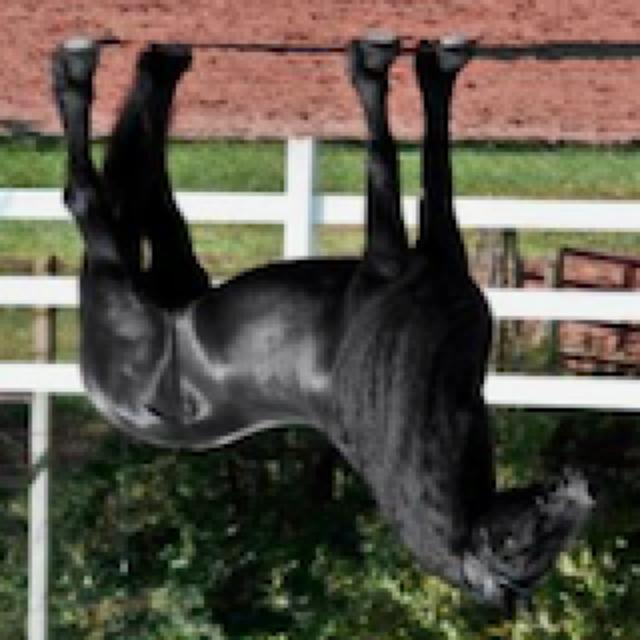Horse: (40, 28, 608, 624)
